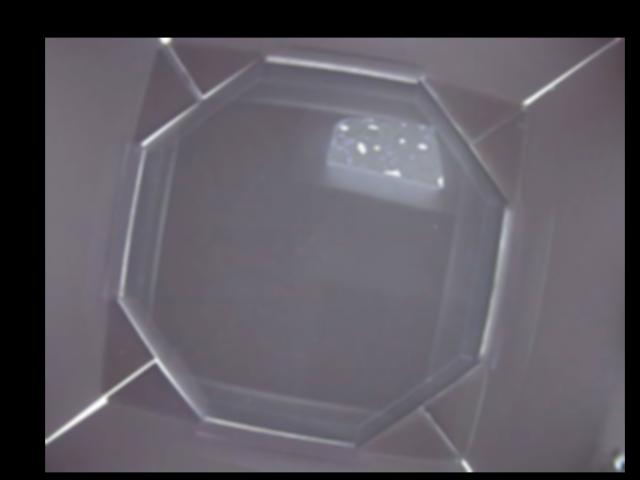China: (329, 116, 444, 190)
